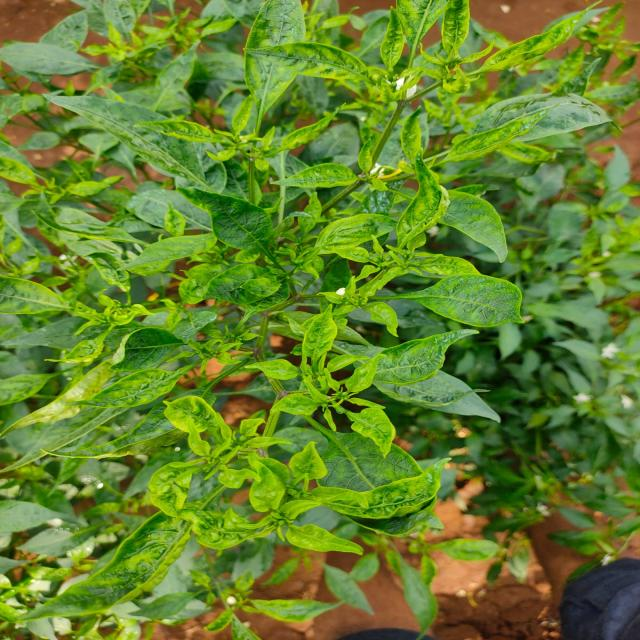Moko: (0, 366, 512, 586), (163, 153, 640, 373), (205, 0, 639, 188), (0, 112, 191, 396), (7, 0, 277, 121)
